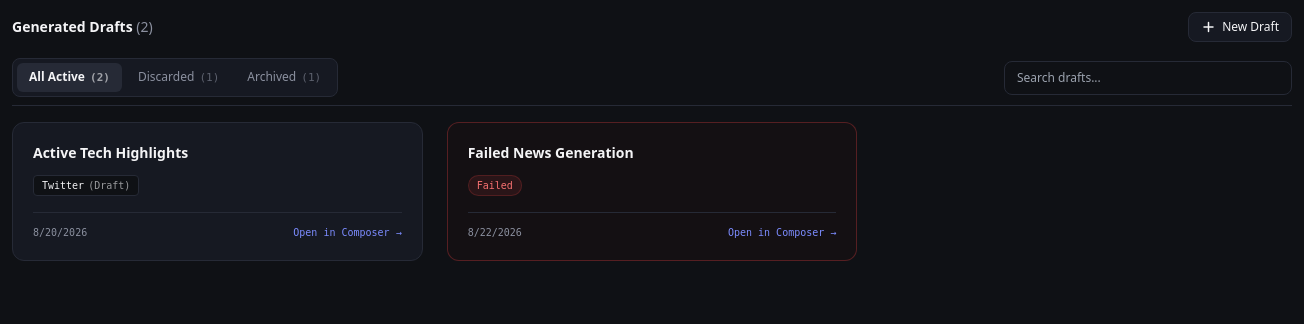
WorkflowDraftsList › switches to Discarded tab and displays discard reason and score
Step 1. Click the button with test id "filter-tab-discarded" → (179, 78), box [126,63,231,92]
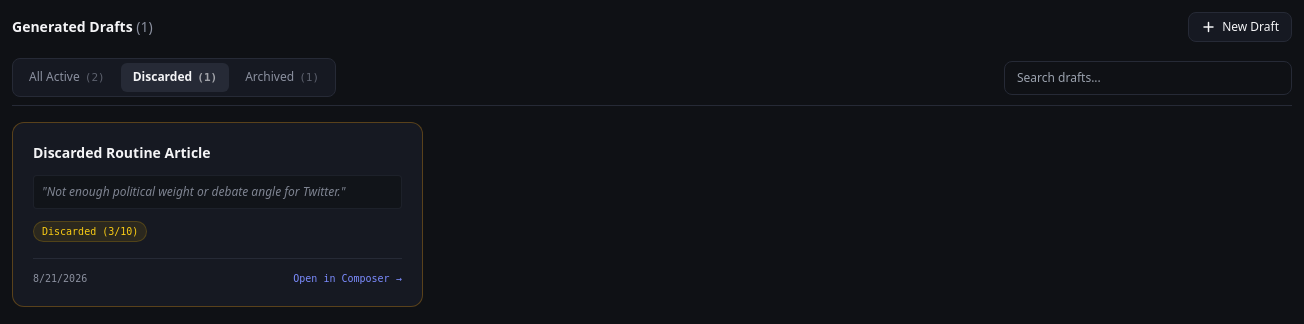
Check: the heading "Discarded Routine Article" is shown, box [33,143,211,163]
Check: the text "\"Not enough political weight or debate angle for Twitter.\"" is shown, box [33,175,402,209]
Check: the text "Discarded (3/10)" is shown, box [33,221,147,242]
